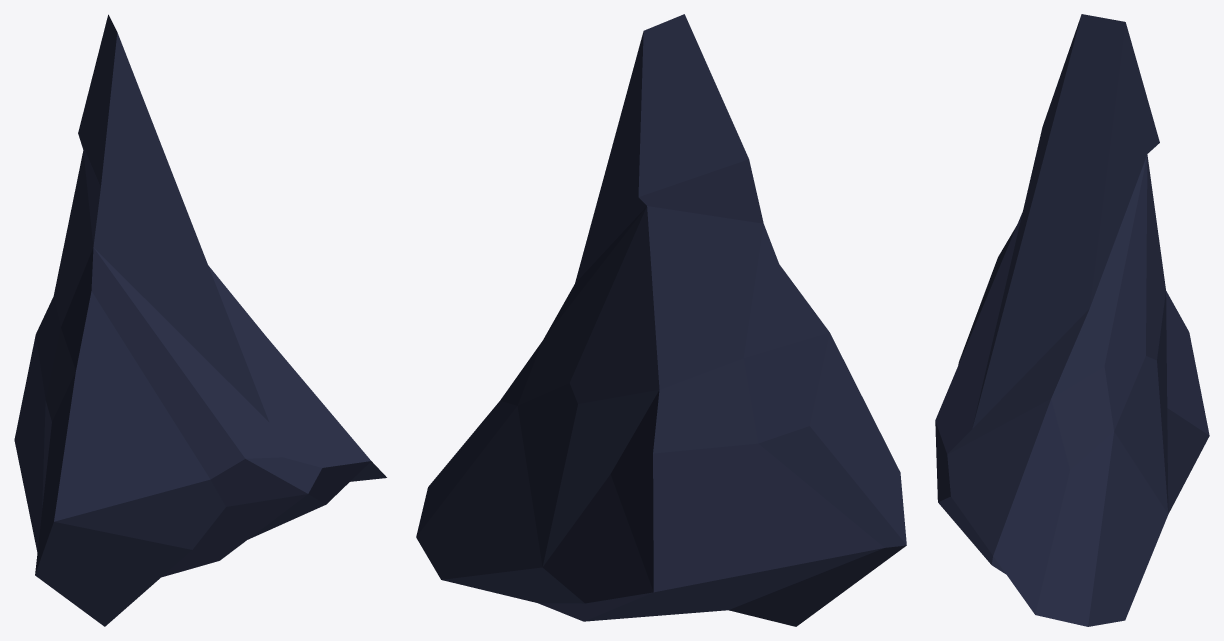
The model's file is Smoothstone 6.fbx.
3 renders of one model, left to right at view 1: azimuth 30°, elevation 25°; view 2: azimuth 150°, elevation 25°; view 3: azimuth 270°, elevation 25°, orthographic. The views are drawn at different scales.
Parts seen in each view (by area): view 1: Smoothstone Size 6; view 2: Smoothstone Size 6; view 3: Smoothstone Size 6.
Boxes of the visible parts, box(x1,y1,x2,y2) form: Smoothstone Size 6: box(14, 14, 386, 626); Smoothstone Size 6: box(416, 14, 906, 626); Smoothstone Size 6: box(935, 14, 1209, 626).
Bounding box in the file's own units: 1132 × 1549 × 709.
